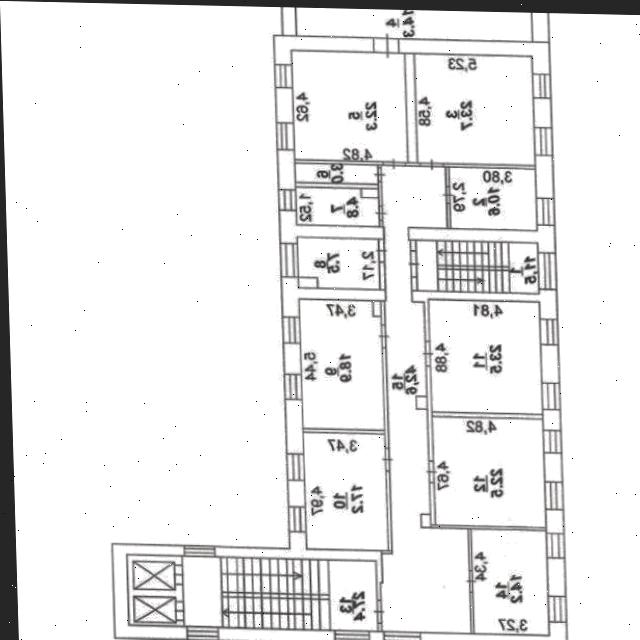room: (364, 161, 471, 636), (180, 555, 380, 630), (413, 53, 537, 164), (430, 296, 542, 417), (289, 50, 410, 161), (430, 415, 548, 526), (299, 296, 384, 432), (304, 429, 388, 552), (472, 526, 550, 637), (295, 7, 534, 40), (415, 240, 540, 293), (448, 166, 539, 230), (296, 236, 381, 288), (294, 186, 380, 225), (295, 162, 378, 182), (132, 560, 176, 589), (133, 595, 177, 621)
